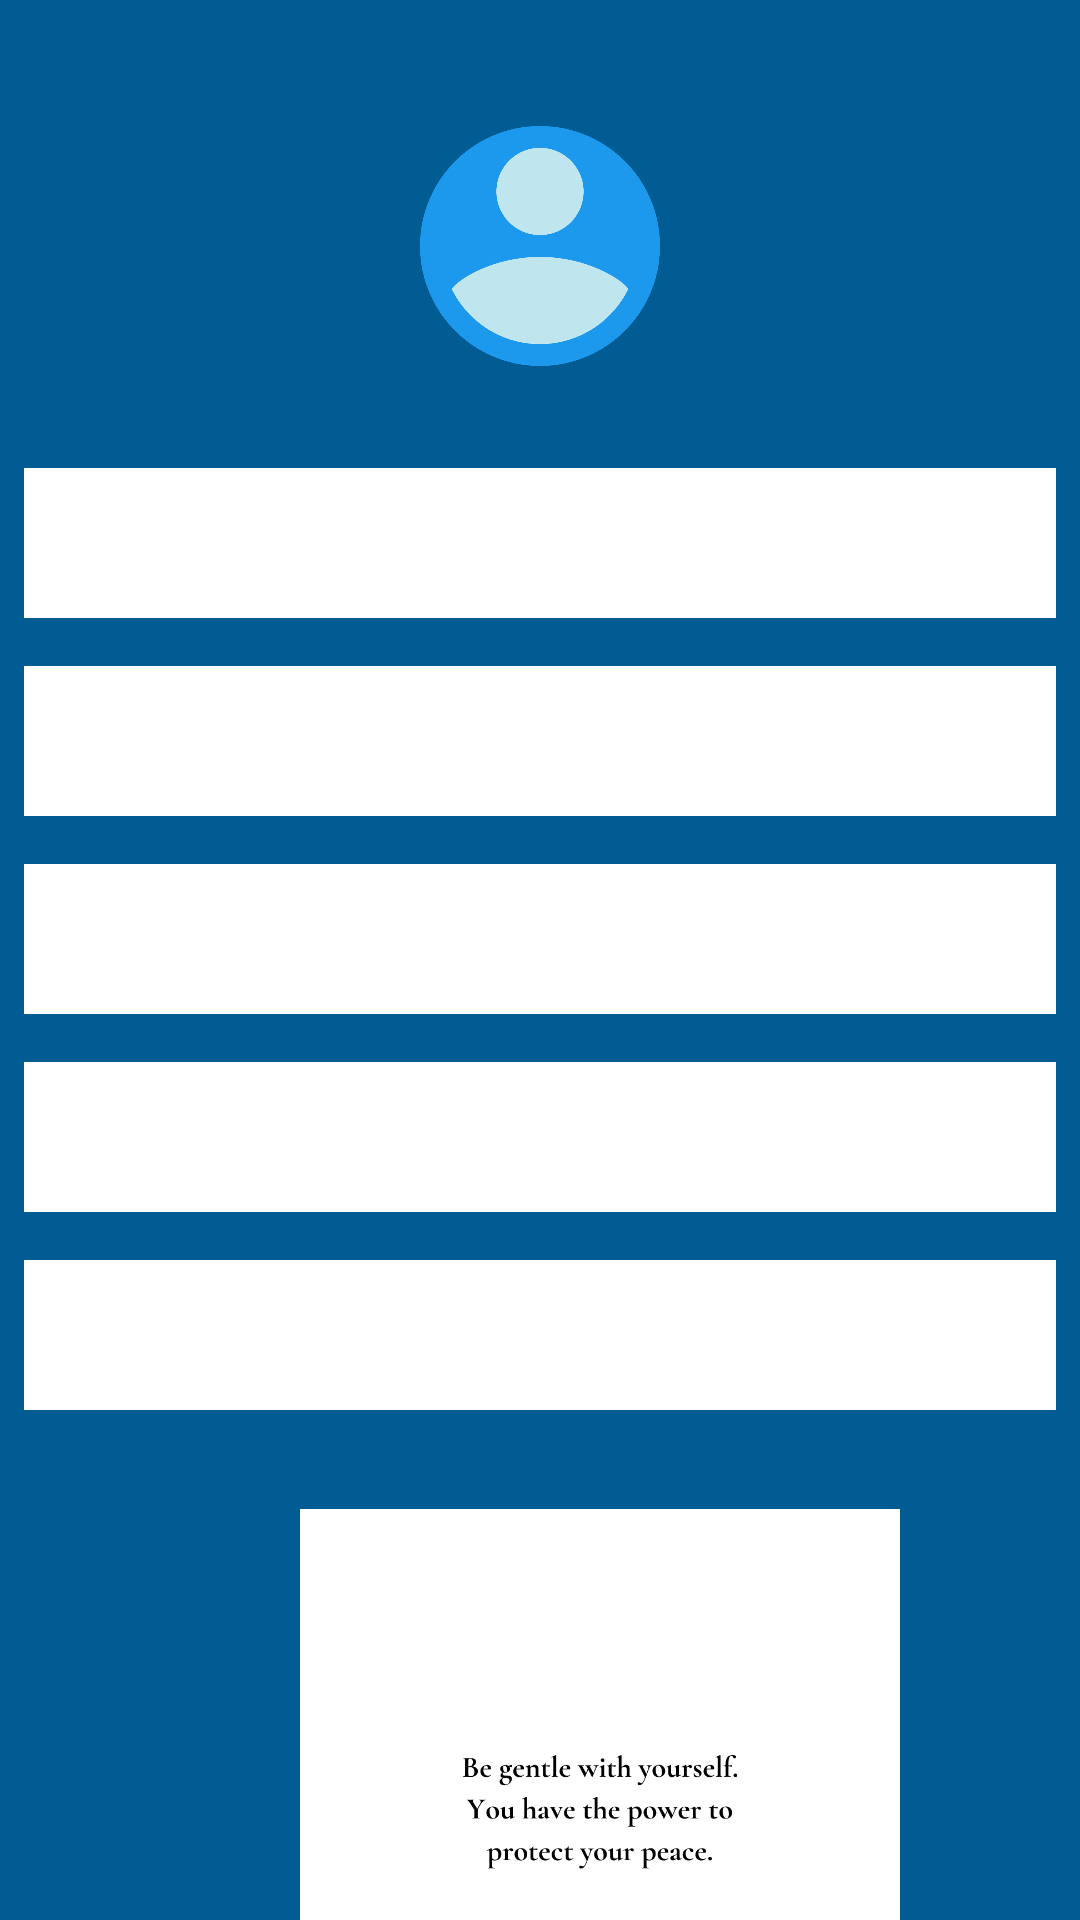

Screen size 1080 x 1920. Icon name, then its center in pixels as (x,y):
profile: (540,246)
